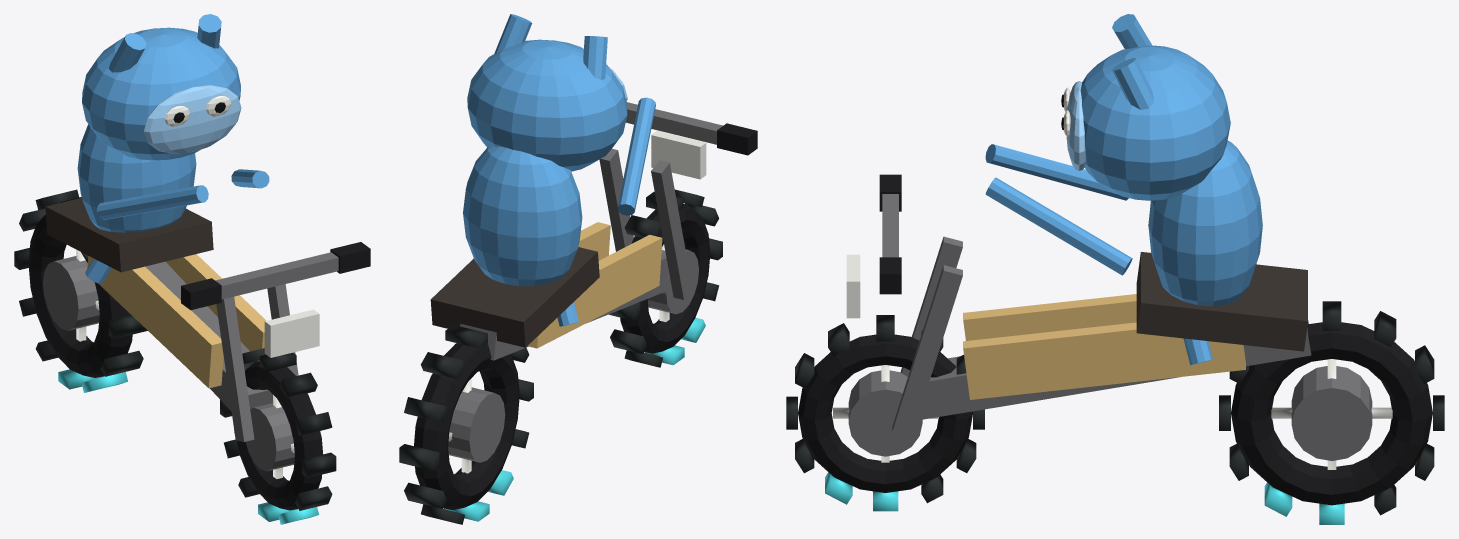
Rendered from godot_plushy_motorcycle.gltf.
3 views of the same model, side by side, from view 1: azimuth 30°, elevation 25°; view 2: azimuth 150°, elevation 25°; view 3: azimuth 270°, elevation 25° (orthographic). The views are drawn at different scales.
Visible parts, largest first — view 1: PlushyHead, PlushyBody, Seat, GoldSideFairingLeft, RearWheelTire, FrontWheelSpinDetail, FrontWheelTire, RearWheelSpinDetail, PlushyFacePatch, RearWheelHub, FrontForkLeft, Handlebar (+12 smaller); view 2: PlushyHead, PlushyBody, Seat, RearWheelTire, RearWheelSpinDetail, GoldSideFairingLeft, FrontWheelSpinDetail, FrontWheelTire, RearWheelHub, FrontForkLeft, LeftArmToBar, TinyHeadlight (+8 smaller); view 3: PlushyHead, RearWheelTire, GoldSideFairingRight, PlushyBody, FrontWheelTire, Seat, RearWheelSpinDetail, RearWheelHub, FrontWheelSpinDetail, GoldSideFairingLeft, MainFrame, FrontWheelHub (+10 smaller).
Part boxes in pixels (x1,y1,x2,y2): PlushyHead: [82, 27, 240, 160]; PlushyBody: [77, 124, 196, 232]; Seat: [45, 198, 213, 272]; GoldSideFairingLeft: [87, 256, 223, 388]; RearWheelTire: [28, 214, 132, 377]; FrontWheelSpinDetail: [220, 348, 336, 524]; FrontWheelTire: [234, 361, 322, 510]; RearWheelSpinDetail: [14, 189, 147, 392]; PlushyFacePatch: [144, 85, 241, 154]; RearWheelHub: [43, 256, 99, 330]; FrontForkLeft: [216, 296, 254, 441]; Handlebar: [215, 252, 338, 299]; PlushyHead: [467, 39, 627, 171]; PlushyBody: [463, 145, 582, 286]; Seat: [430, 247, 599, 347]; RearWheelTire: [414, 343, 519, 509]; RearWheelSpinDetail: [399, 325, 533, 524]; GoldSideFairingLeft: [527, 234, 662, 348]; FrontWheelSpinDetail: [609, 189, 722, 367]; FrontWheelTire: [620, 203, 710, 353]; RearWheelHub: [448, 387, 505, 462]; FrontForkLeft: [651, 160, 692, 299]; LeftArmToBar: [617, 97, 655, 215]; TinyHeadlight: [651, 130, 706, 179]; PlushyHead: [1080, 45, 1230, 200]; RearWheelTire: [1231, 322, 1432, 505]; GoldSideFairingRight: [963, 322, 1245, 399]; PlushyBody: [1148, 140, 1262, 306]; FrontWheelTire: [798, 334, 972, 492]; Seat: [1136, 252, 1307, 351]; RearWheelSpinDetail: [1219, 301, 1444, 524]; RearWheelHub: [1291, 366, 1372, 460]; FrontWheelSpinDetail: [786, 315, 984, 511]; GoldSideFairingLeft: [963, 294, 1136, 340]; MainFrame: [920, 320, 1311, 419]; FrontWheelHub: [848, 370, 922, 456].
Bounding box in the file's own units: 1.4 × 3.13 × 3.91.
